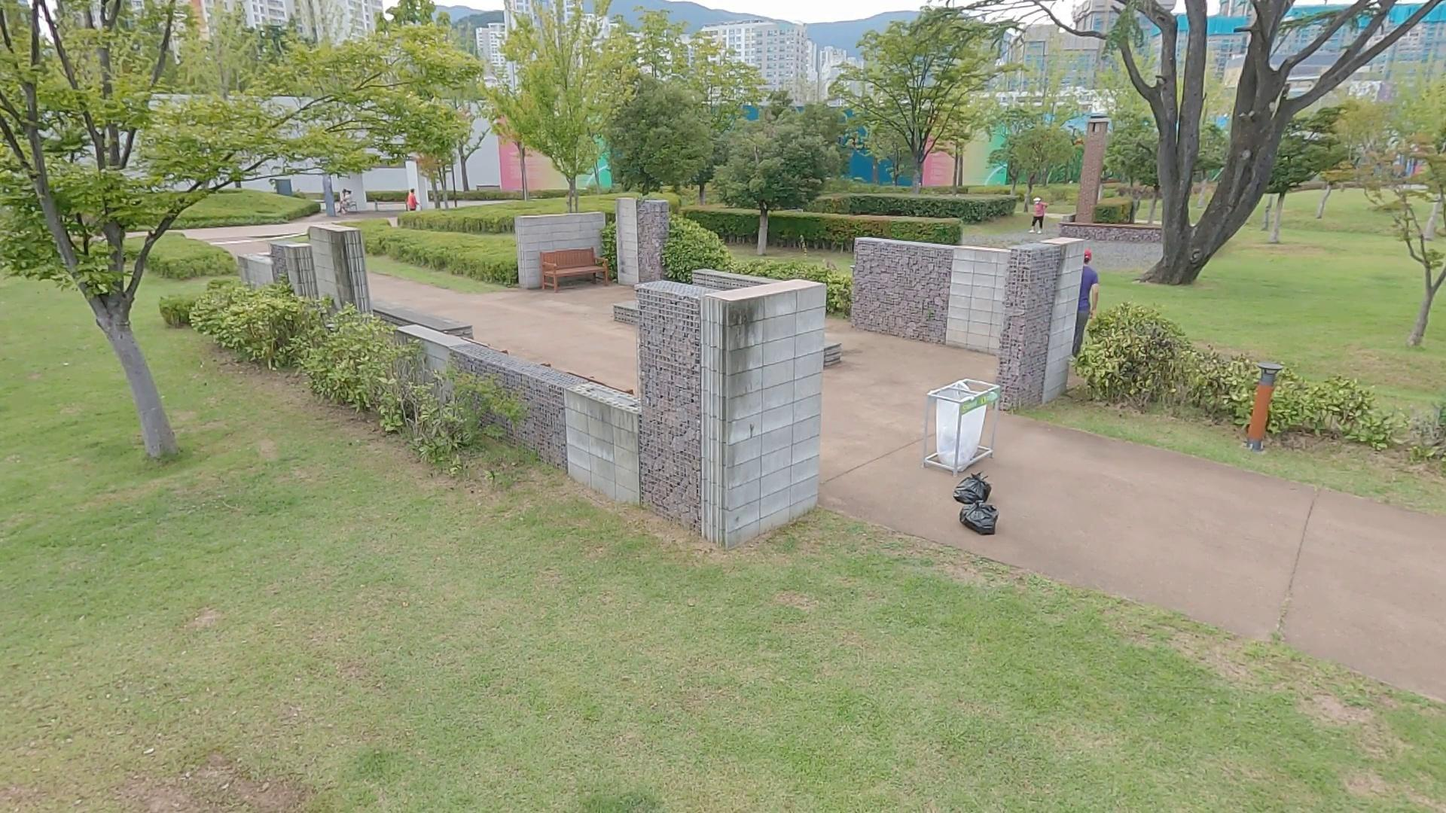person: (1070, 248, 1099, 360), (1031, 197, 1048, 234)
trash: (952, 470, 991, 507), (960, 500, 1000, 536)
